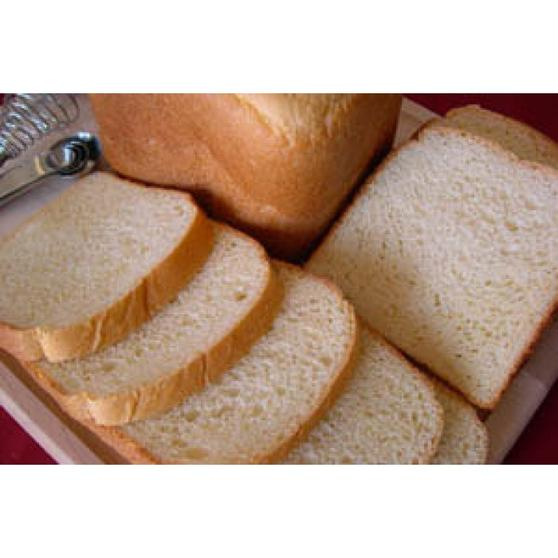white_bread: (72, 89, 399, 238)
